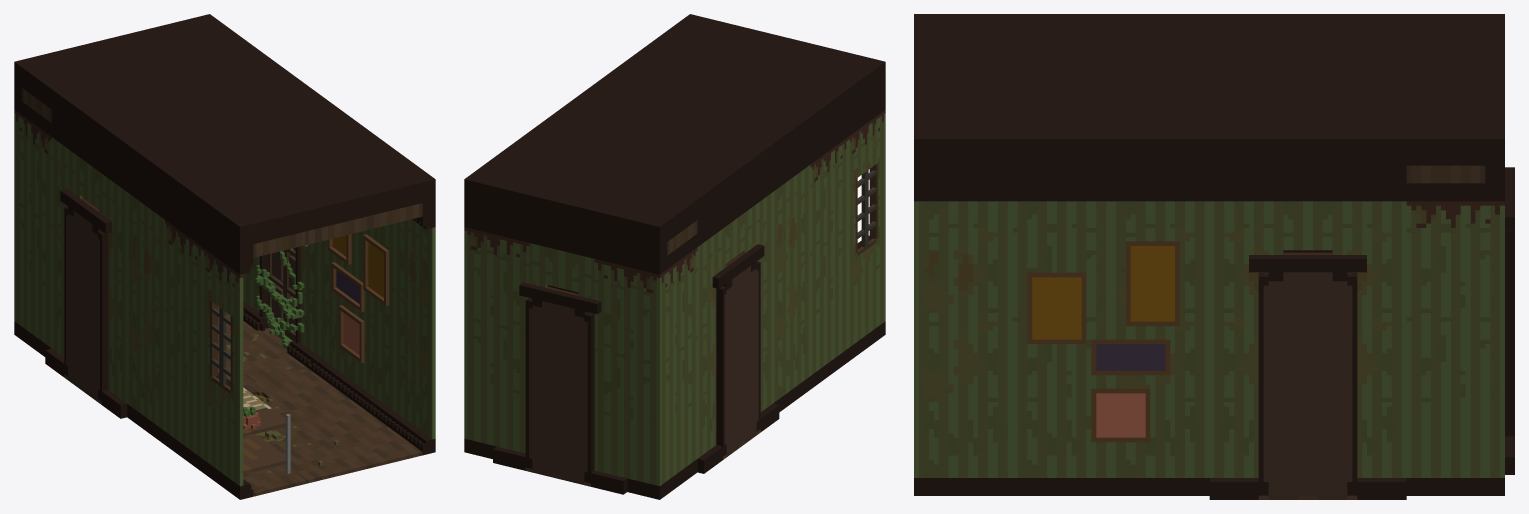
The model's file is mansion-1.obj.
3 views of the same model, side by side, from view 1: azimuth 30°, elevation 25°; view 2: azimuth 150°, elevation 25°; view 3: azimuth 270°, elevation 25° (orthographic). The views are drawn at different scales.
Size of the model in its own units: 6.4 by 8.1 by 12.2.
Materials: 1 (1 with a texture image).
